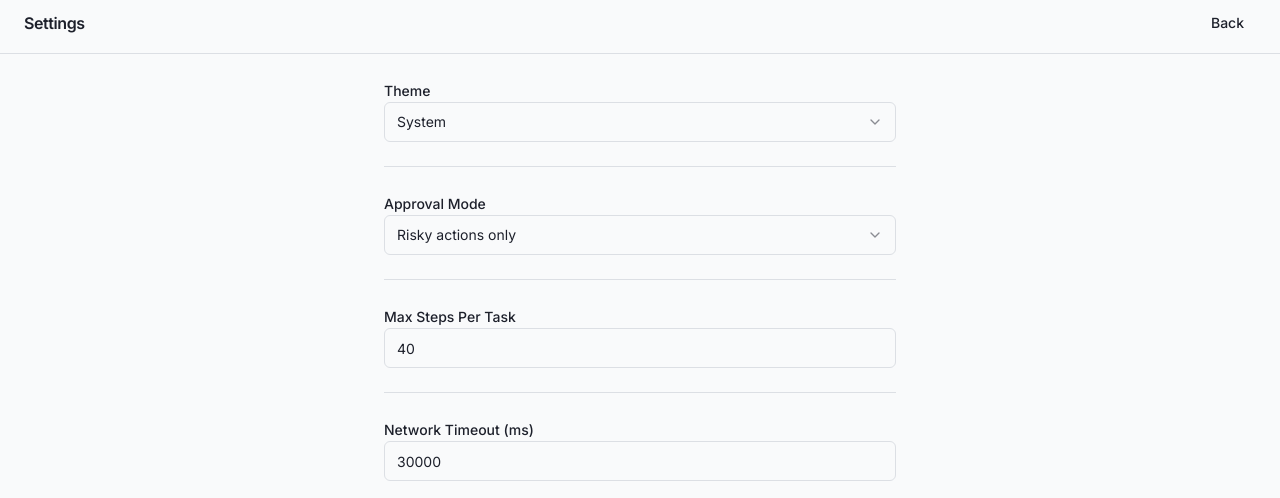
Test: SettingsView › resets invalid max steps on blur
Replace the text in the number field showing "40" below "Max Steps Per Task" with "-5" at (640, 348), box [384,328,896,368]
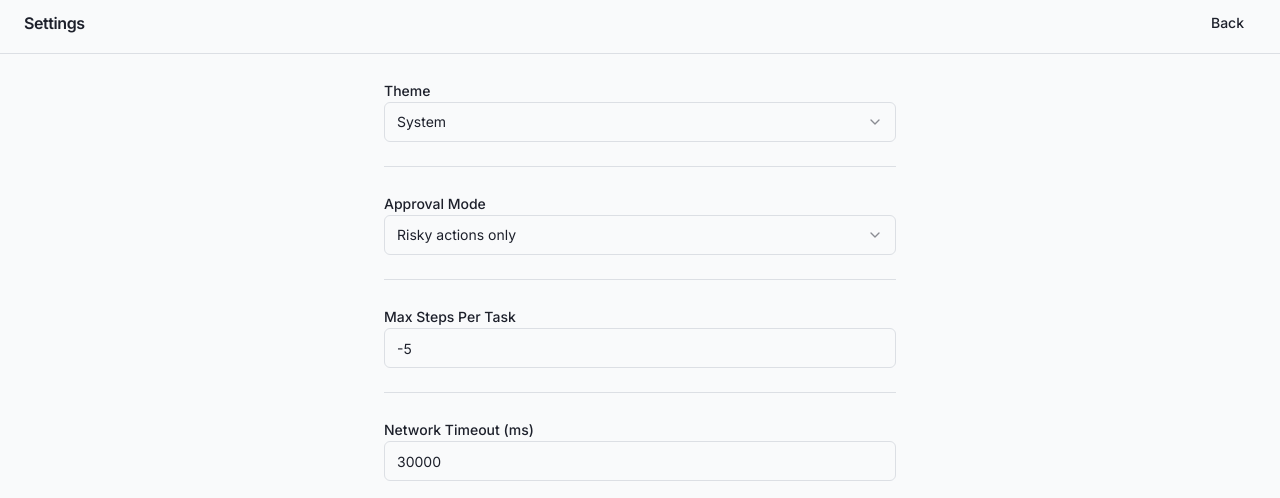
Leave the number field showing "40" below "Max Steps Per Task", box [384,328,896,368]
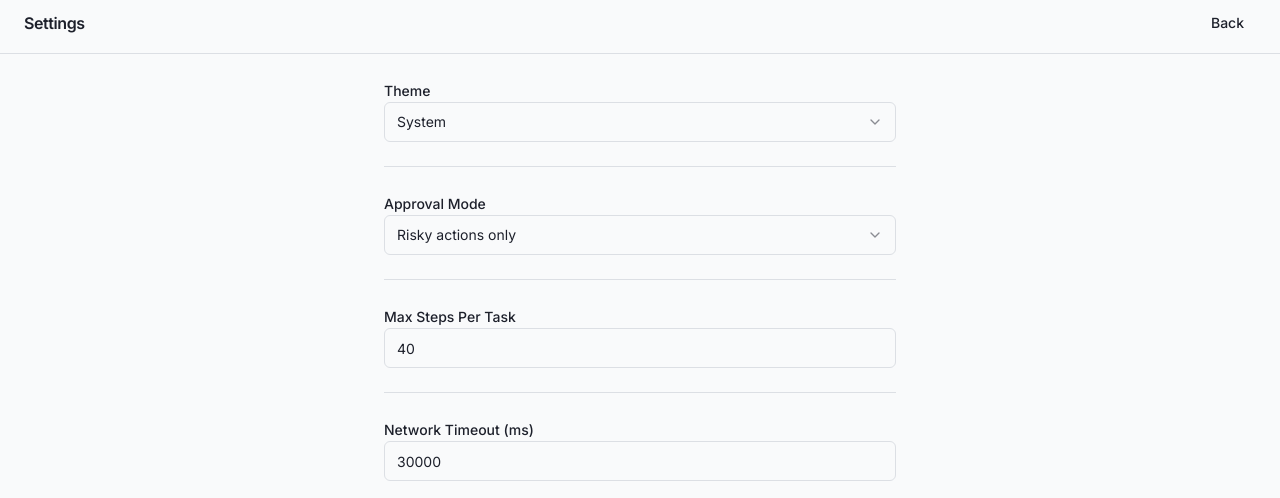
Check: the number field showing "40" below "Max Steps Per Task" holds "40", box [384,328,896,368]
